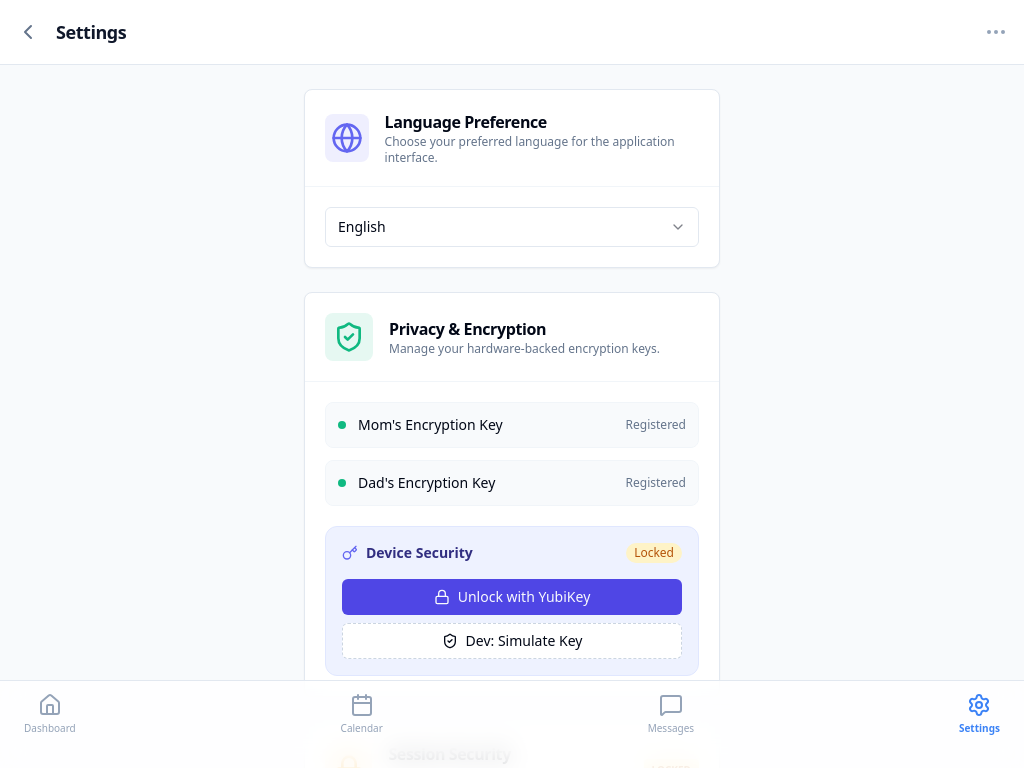
it: Settings › DEV simulated unlock shows error when refreshE2eeSessionState reports failure
What coordinates should you click on to do the following:
click the button with test id "dev-unlock-button"
I would click on:
 (512, 641)
Its box is [342,623,682,659].
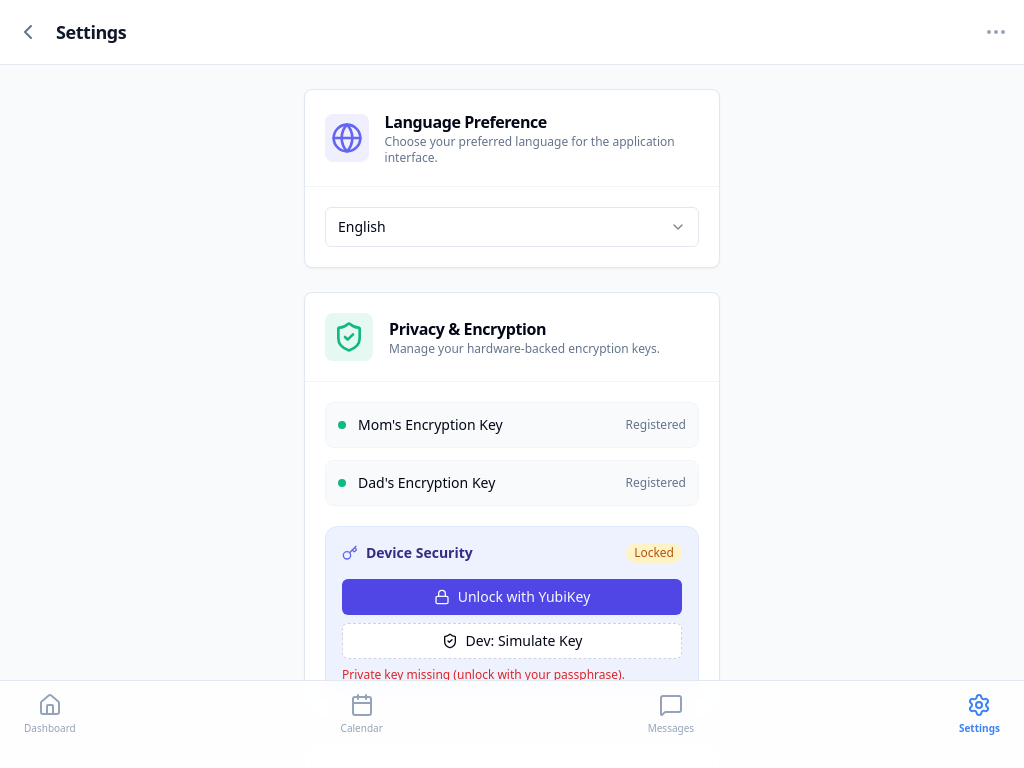
Check: the text "Private key missing (unlock with your passphrase)." is shown, box [342,666,625,683]
